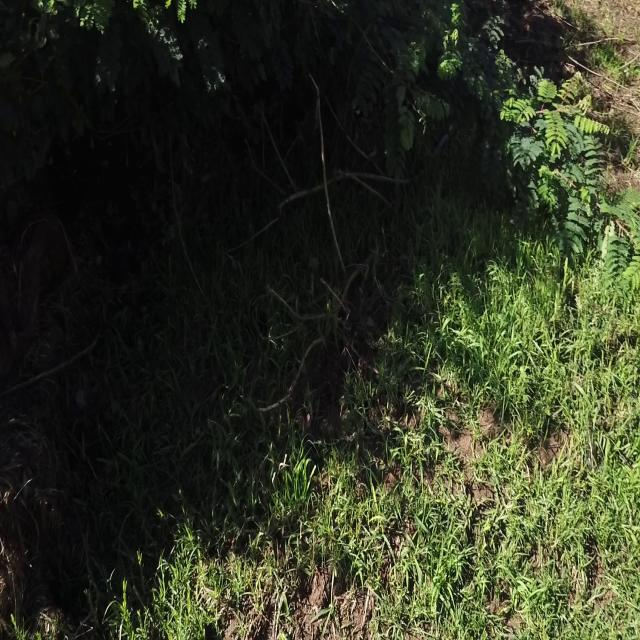Mysore-Thorn-Weed: (483, 65, 608, 260), (33, 0, 233, 105), (361, 0, 507, 143)
